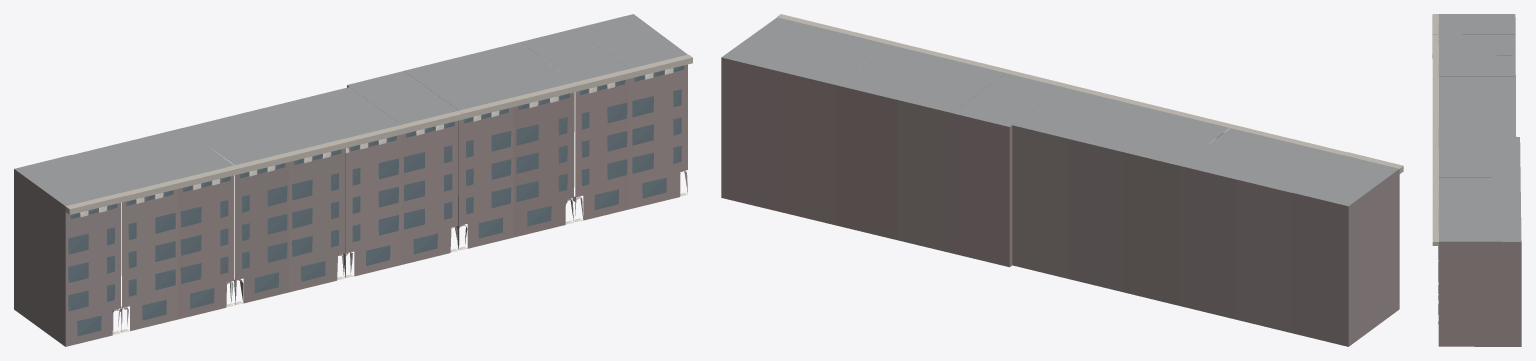
File: chunk-face-polanen-181-331-r1.lod2.glb
3 views of the same model, side by side, from view 1: azimuth 30°, elevation 25°; view 2: azimuth 150°, elevation 25°; view 3: azimuth 270°, elevation 25° (orthographic). The views are drawn at different scales.
Parts seen in each view (by area): view 1: lod2; view 2: lod2; view 3: lod2.
Part boxes in pixels (x1,y1,x2,y2): lod2: (14,14,692,346); lod2: (721,14,1403,346); lod2: (1432,14,1521,346).
Size of the model in its own units: 68.36 by 14.74 by 11.3.
